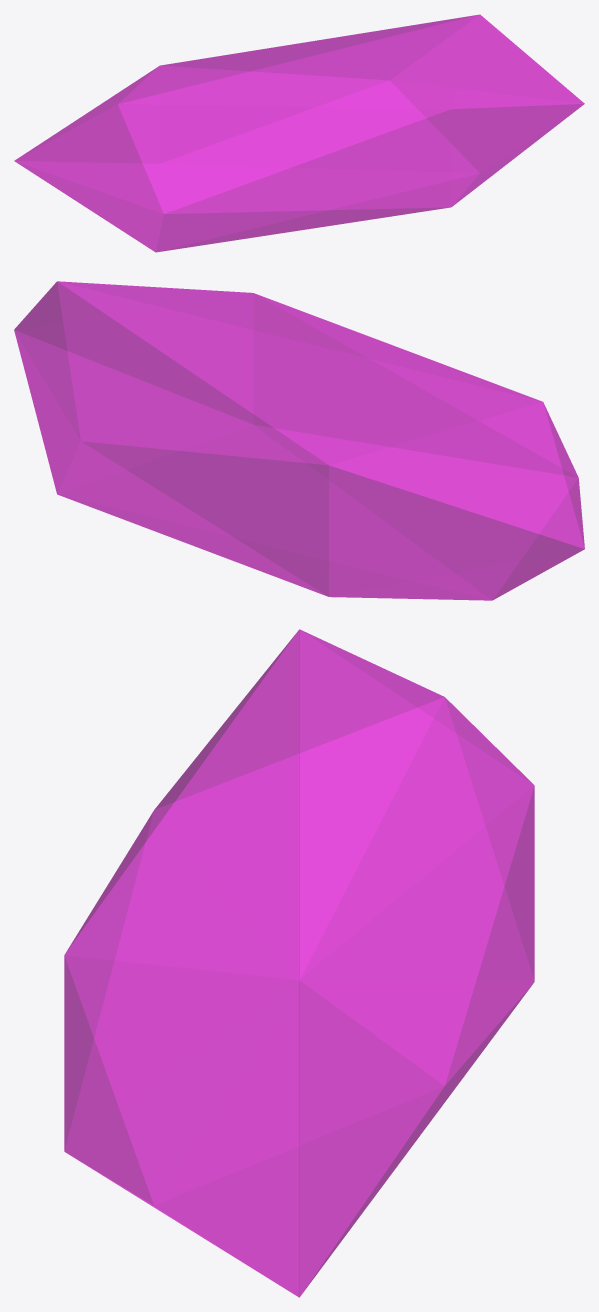
File: shadowPlatform.fbx
3 views of the same model, one above another, from view 1: azimuth 30°, elevation 25°; view 2: azimuth 150°, elevation 25°; view 3: azimuth 270°, elevation 25° (orthographic). The views are drawn at different scales.
Visible parts, largest first — view 1: shadowplatform; view 2: shadowplatform; view 3: shadowplatform.
Boxes of the visible parts, left/top/right/bottom form: shadowplatform: left=14, top=14, right=584, bottom=252; shadowplatform: left=14, top=281, right=584, bottom=600; shadowplatform: left=64, top=629, right=534, bottom=1297.
Size of the model in its own units: 4.16 by 1.27 by 1.7.
